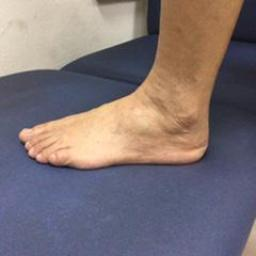Lateral View -Left Foot-: (14, 65, 224, 173)
